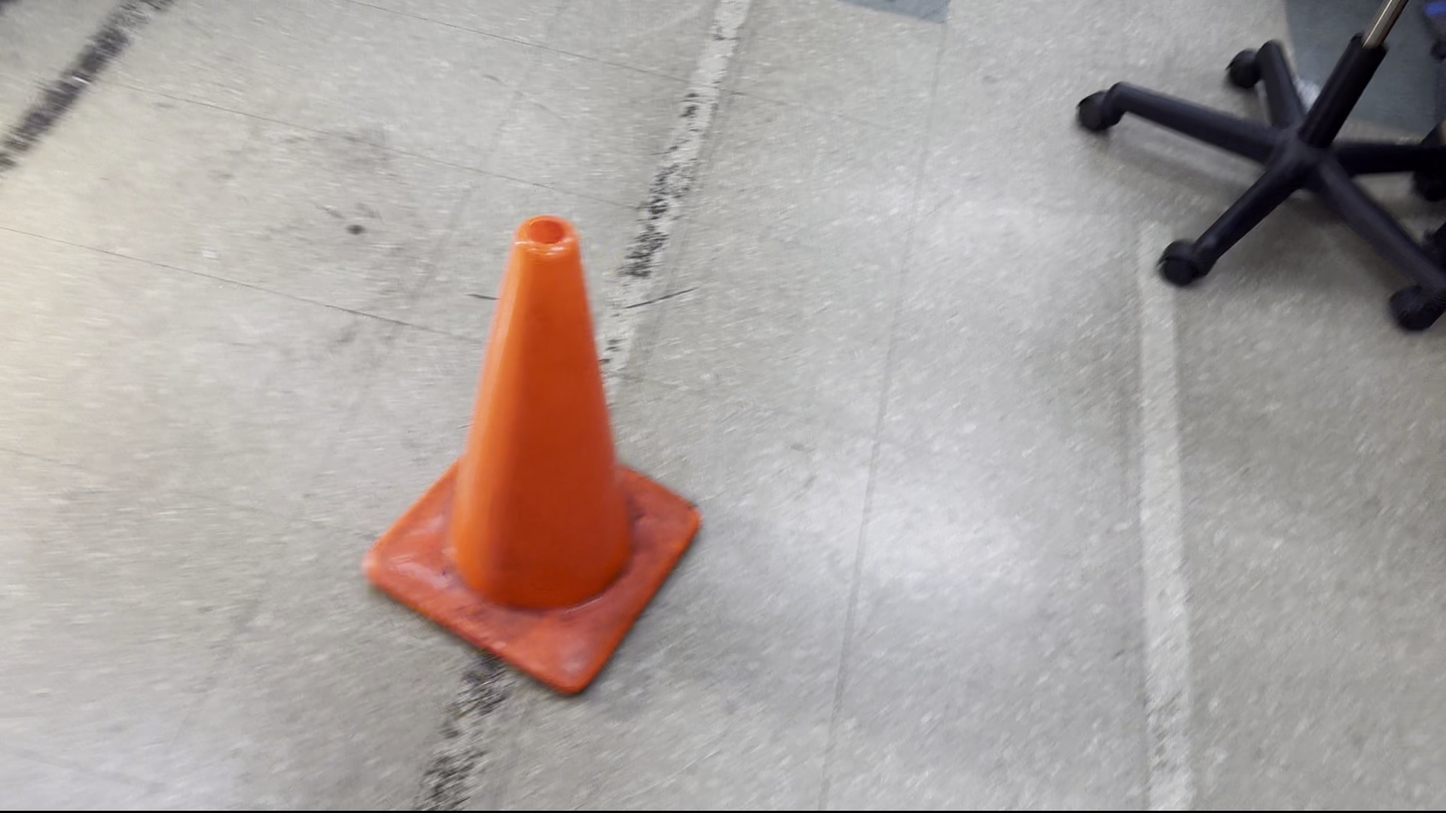traffic_cone: (361, 213, 703, 697)
